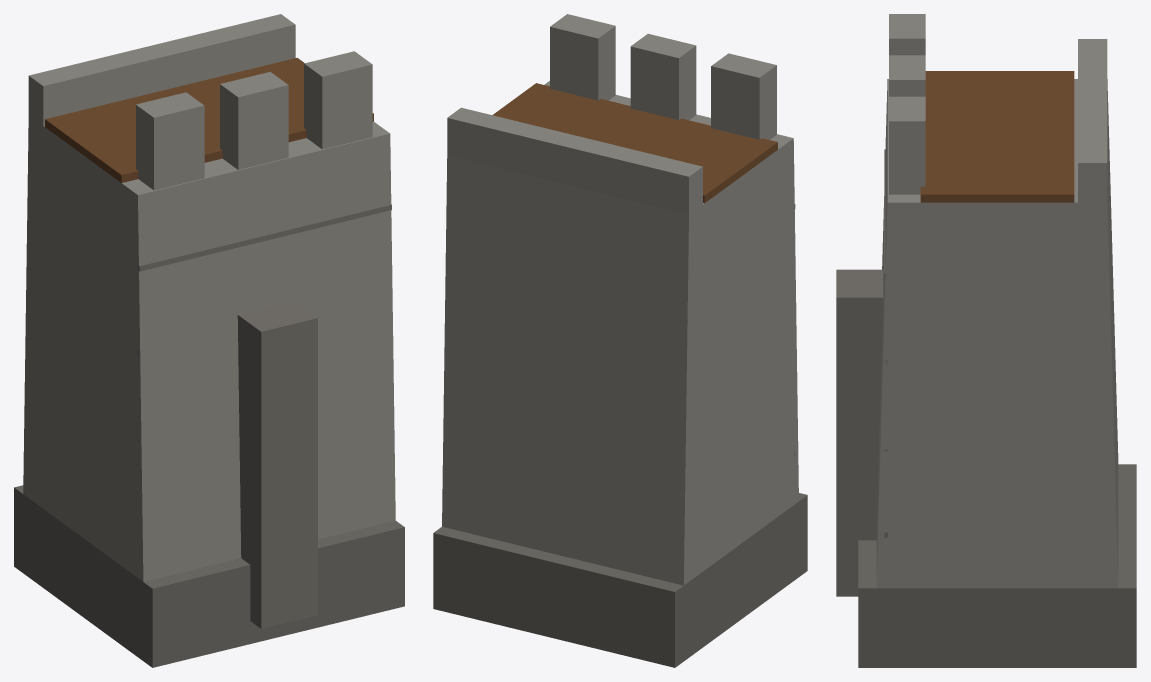
File: wall.glb
3 views of the same model, side by side, from view 1: azimuth 30°, elevation 25°; view 2: azimuth 150°, elevation 25°; view 3: azimuth 270°, elevation 25° (orthographic). The views are drawn at different scales.
Parts seen in each view (by area): view 1: Wall; view 2: Wall; view 3: Wall.
Boxes of the visible parts, bbox=[...] form: Wall: bbox=[14, 14, 404, 667]; Wall: bbox=[433, 14, 807, 667]; Wall: bbox=[836, 14, 1136, 667].
Size of the model in its own units: 4 by 8.1 by 4.1.
